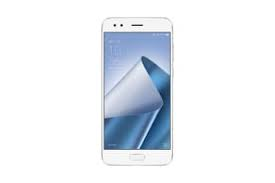asus: (98, 15, 175, 168)
